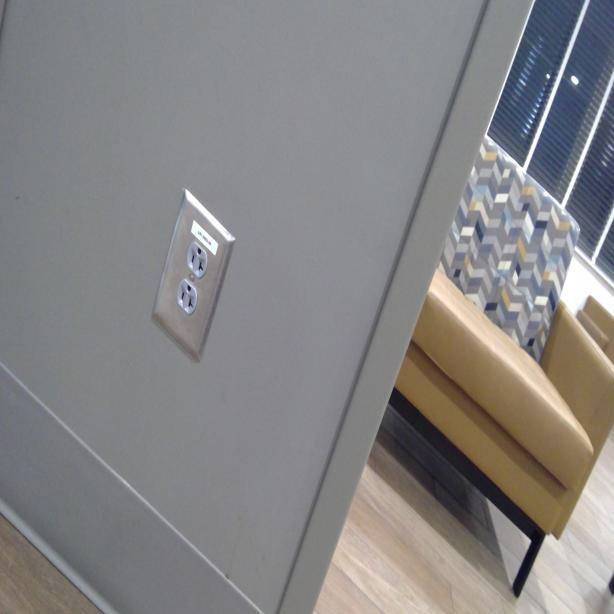typeb: (183, 244, 205, 280), (178, 279, 198, 315)
